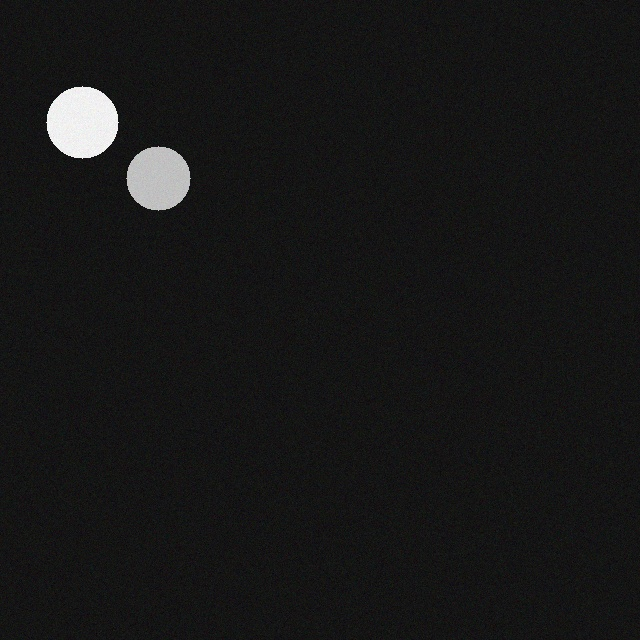circle: (47, 101, 119, 173), (127, 161, 191, 225)
